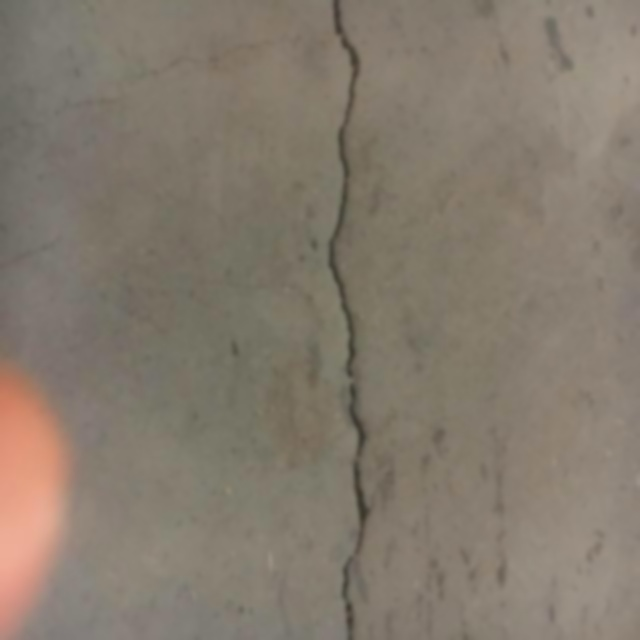SurfaceCrack: (283, 1, 411, 640)
